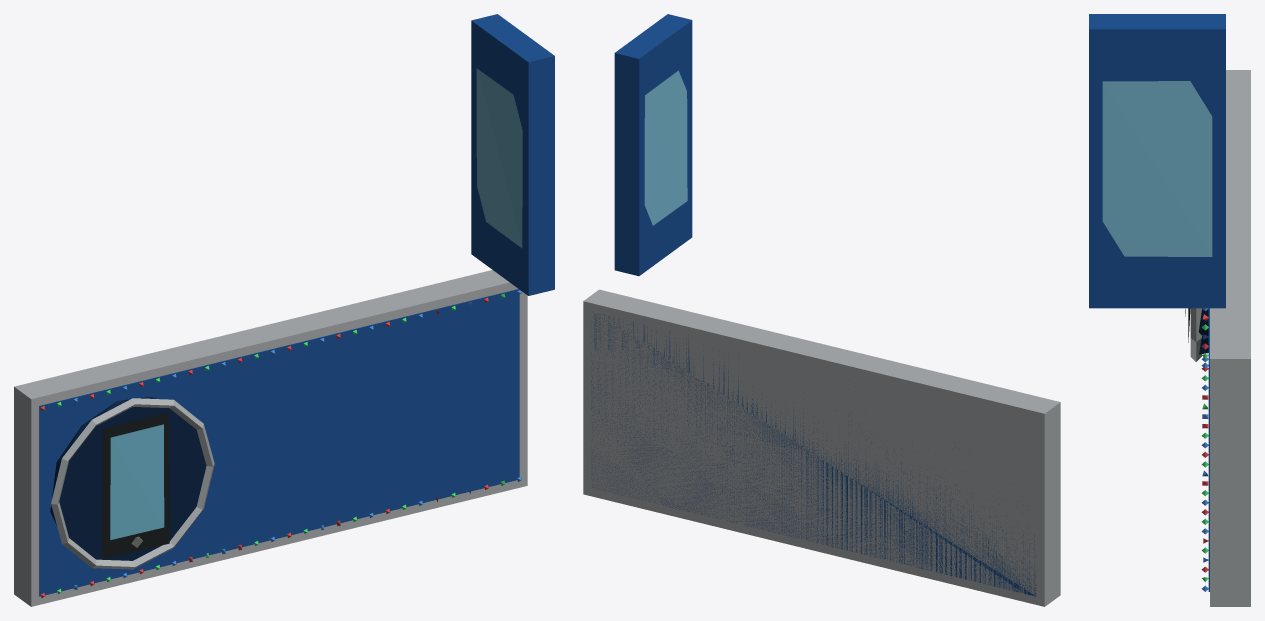
The model's file is bang_sua_dien_thoai_tuan_32.glb.
The picture shows the model from 3 angles, left to right: view 1: azimuth 30°, elevation 25°; view 2: azimuth 150°, elevation 25°; view 3: azimuth 270°, elevation 25°; orthographic projection. The views are drawn at different scales.
Parts seen in each view (by area): view 1: bang_sua_dien_thoai_tuan_32; view 2: bang_sua_dien_thoai_tuan_32; view 3: bang_sua_dien_thoai_tuan_32.
Part boxes in pixels (box(x1,y1,x2,y2)): bang_sua_dien_thoai_tuan_32: box(14, 14, 554, 606); bang_sua_dien_thoai_tuan_32: box(583, 14, 1060, 606); bang_sua_dien_thoai_tuan_32: box(1089, 14, 1250, 606).
Size of the model in its own units: 3 by 2.73 by 0.71.
